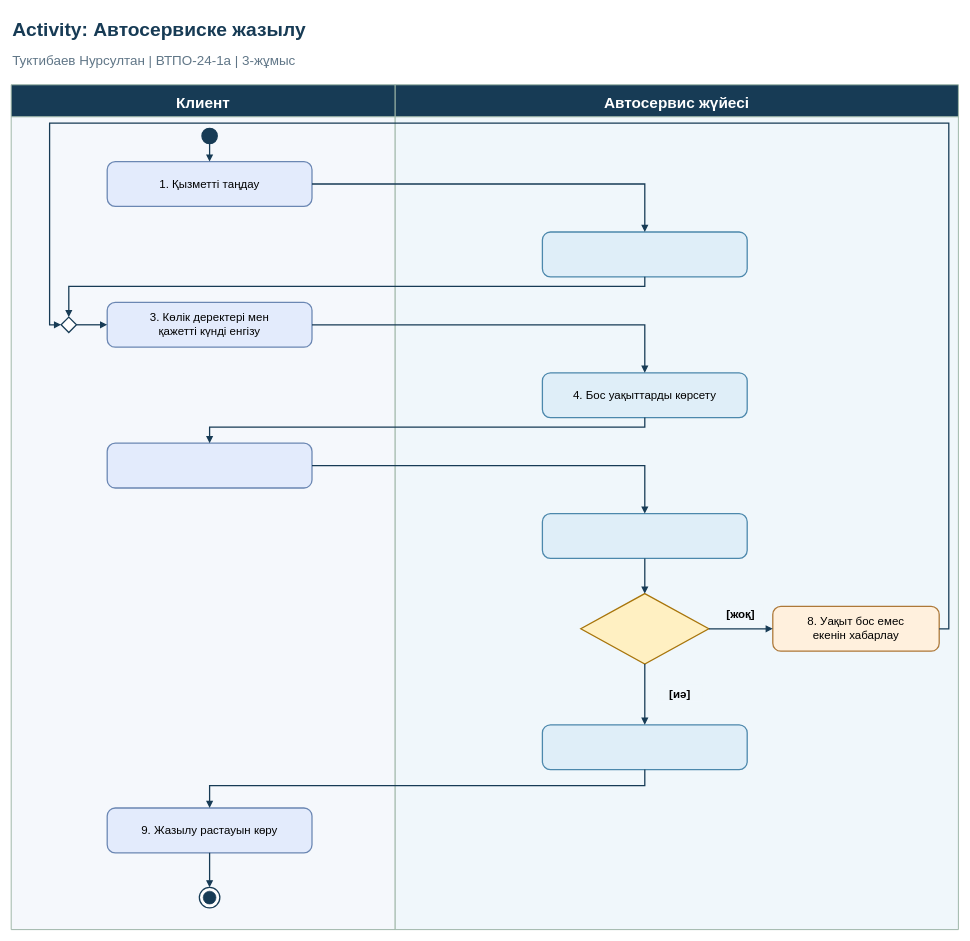
This 970x941 diagram has some shape labels left out. Here are the shapes that lost their labels. From the top down, the centre of each, then its label:
pixel 644 254: 2. Ұзақтығы мен бағасын көрсету
pixel 209 465: 5. Уақытты таңдап, жазылуды растау
pixel 644 536: 6. Бос орынды тексеріп, бос болса өтінімді сақтау
pixel 644 628: Өтінім сақталды ма?
pixel 644 747: 7. Растау мен өтінім нөмірін көрсету
